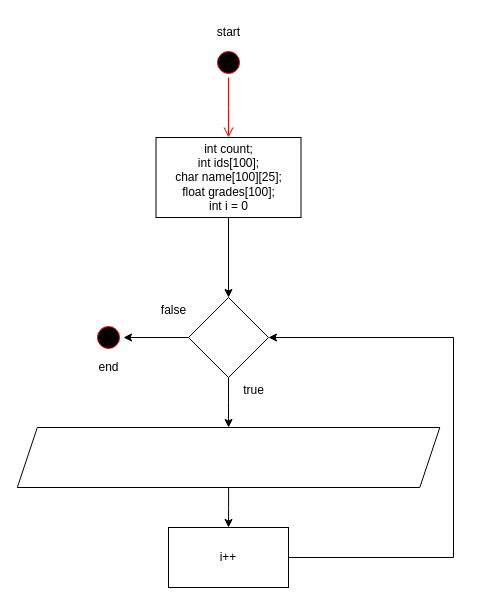
The diagram is 480 pixels wide and 605 high, and some of its shapes have lost their labels. The box of each missing label's shape, as (x1, y1, x2, y2) in pixels:
i < count: (188, 296, 268, 378)
printf("ID: %d - Name: %s - Grade: %.2lf\n" , ids[i] , name[i] , grade[i] );: (16, 426, 440, 488)
